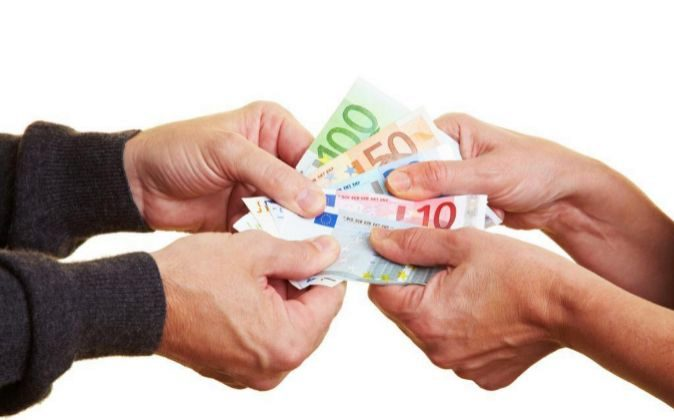billete: (230, 75, 506, 291)
